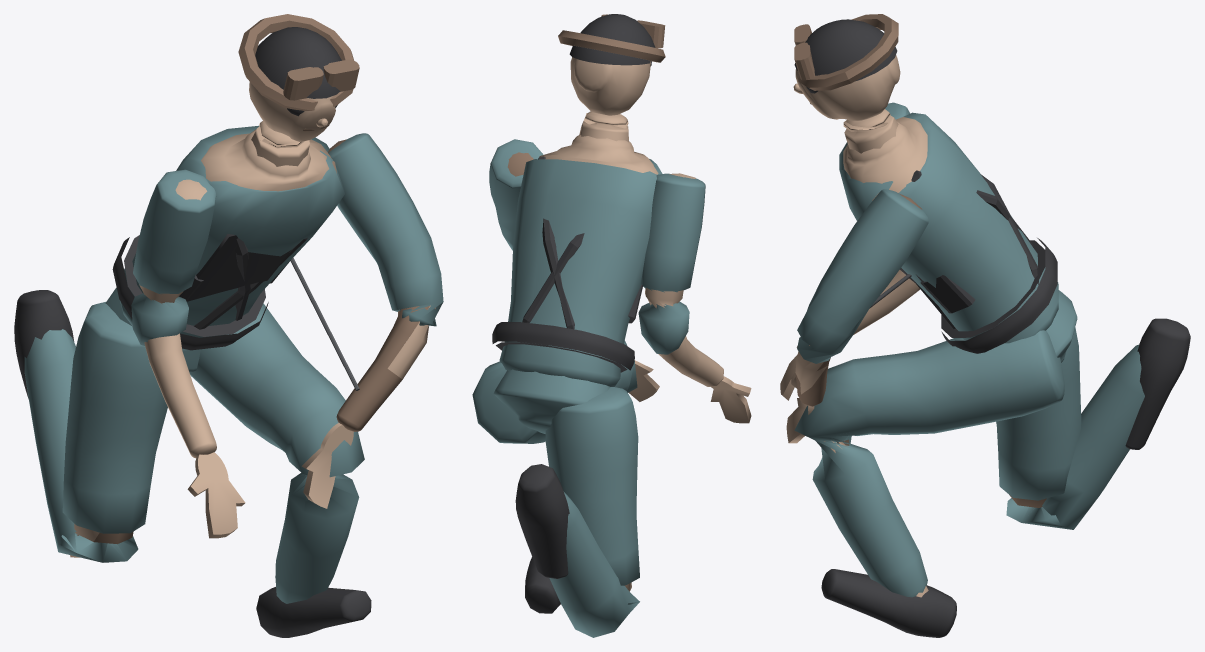
The model's file is tactical-shooter-hill-town-recon-operator-planting-c962f487__27574.glb.
3 views of the same model, side by side, from view 1: azimuth 30°, elevation 25°; view 2: azimuth 150°, elevation 25°; view 3: azimuth 270°, elevation 25° (orthographic). The views are drawn at different scales.
Visible parts, largest first — view 1: recon-operator-planting; view 2: recon-operator-planting; view 3: recon-operator-planting.
Boxes of the visible parts, x1,y1,x2,y2 form: recon-operator-planting: (14,14,443,637); recon-operator-planting: (472,14,751,637); recon-operator-planting: (780,14,1190,637).
Bounding box in the file's own units: 0.5628 × 1.31 × 0.8125.
